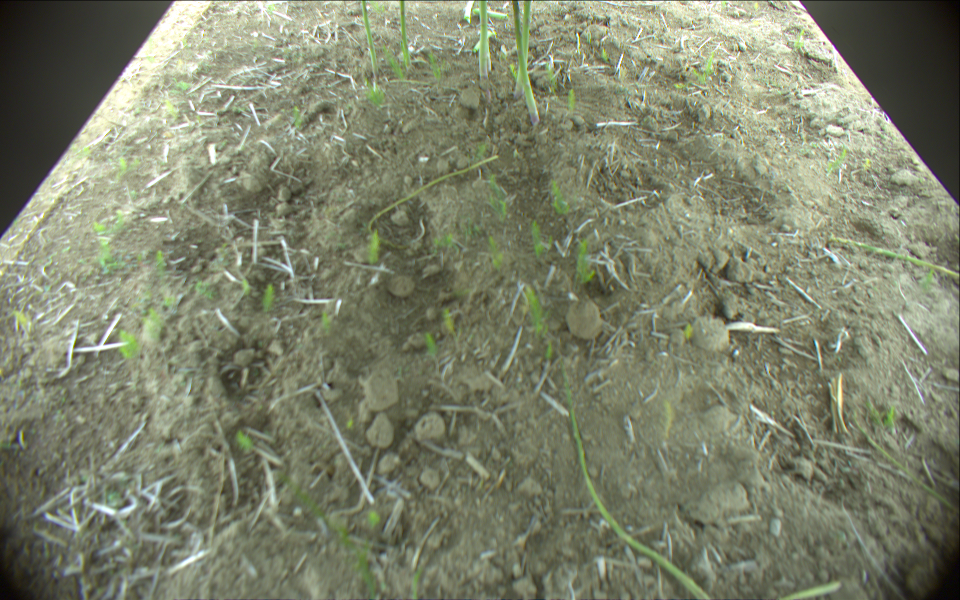aspa: (560, 364, 713, 600), (367, 155, 499, 238), (829, 235, 960, 282), (511, 1, 541, 125), (514, 1, 533, 99), (359, 1, 378, 74), (780, 580, 843, 600), (396, 1, 412, 69), (477, 1, 489, 87), (475, 6, 509, 24), (464, 1, 475, 25)
